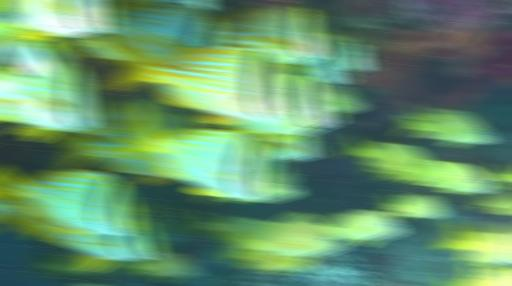Fish: (105, 36, 294, 123), (120, 106, 271, 198), (0, 210, 159, 273), (0, 172, 141, 234), (0, 57, 103, 141), (12, 214, 161, 271), (55, 120, 178, 184), (227, 74, 340, 141), (223, 5, 332, 64), (103, 2, 226, 52), (221, 222, 346, 263), (6, 0, 117, 40), (341, 136, 430, 180), (76, 99, 175, 136), (398, 108, 491, 147), (435, 222, 511, 266), (0, 38, 61, 90), (398, 160, 490, 193), (327, 210, 402, 246), (118, 252, 199, 283), (64, 29, 128, 68), (133, 203, 192, 243), (305, 37, 354, 84), (223, 172, 299, 202), (189, 210, 270, 238), (61, 34, 128, 65), (32, 250, 107, 276), (326, 35, 375, 71), (240, 251, 311, 274), (267, 133, 320, 161), (384, 194, 445, 218), (318, 84, 363, 113), (459, 220, 511, 240), (471, 192, 511, 215), (0, 198, 29, 223), (487, 164, 511, 188), (484, 270, 511, 285), (0, 0, 21, 15), (194, 0, 220, 9), (503, 267, 511, 271), (93, 283, 99, 285)
